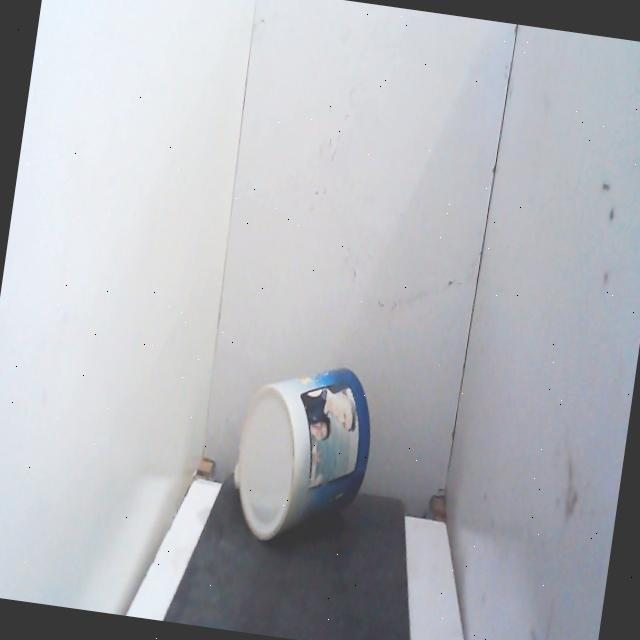vidro: (219, 344, 387, 570)
